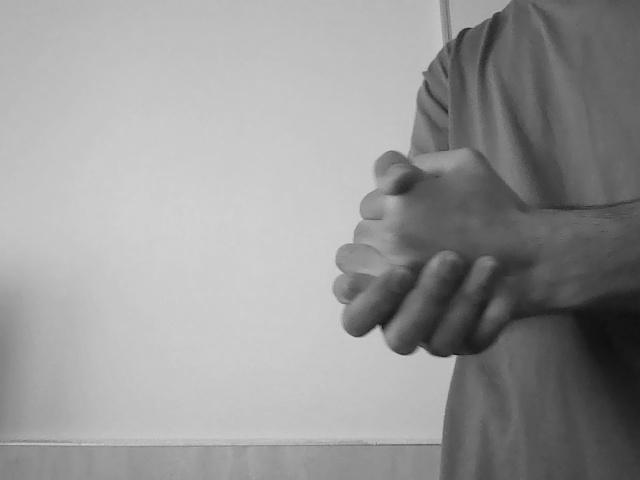friend: (313, 138, 547, 367)
